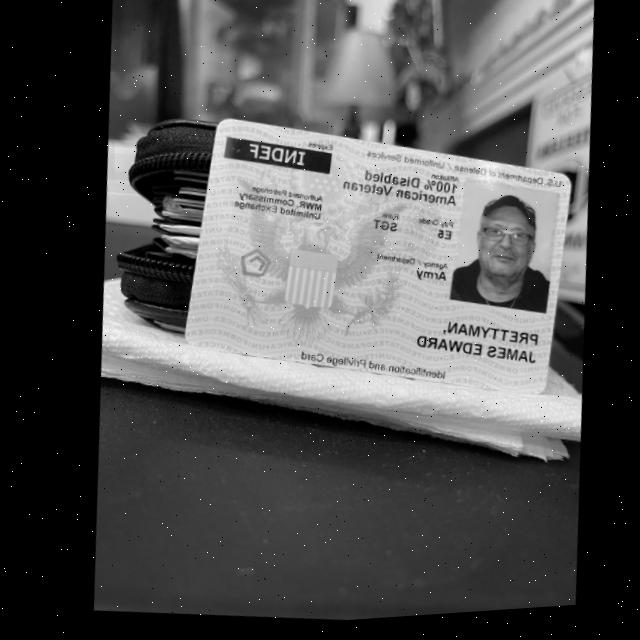card: (185, 120, 569, 393)
